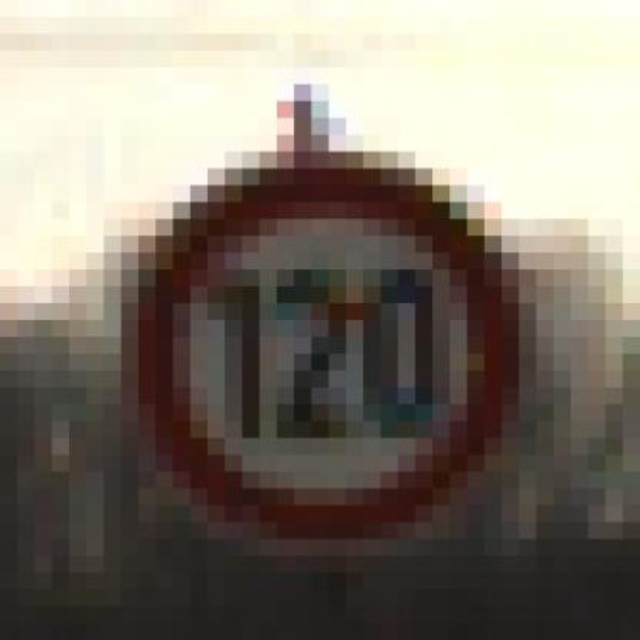Tốc độ tối đa cho phép 120km/h: (132, 160, 513, 544)
